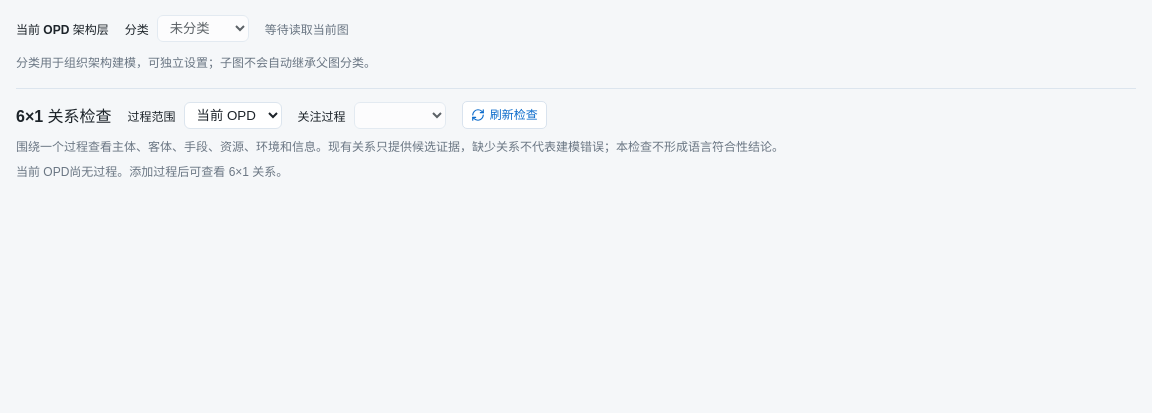
Scenario: 架构方法面板 › 失败重试和空态，方法查询不改语言校验状态或阻断数
The width and height of the screenshot is (1152, 413).
Click the button with test id "p03-method-refresh": x=504, y=115 [462, 101, 547, 129]
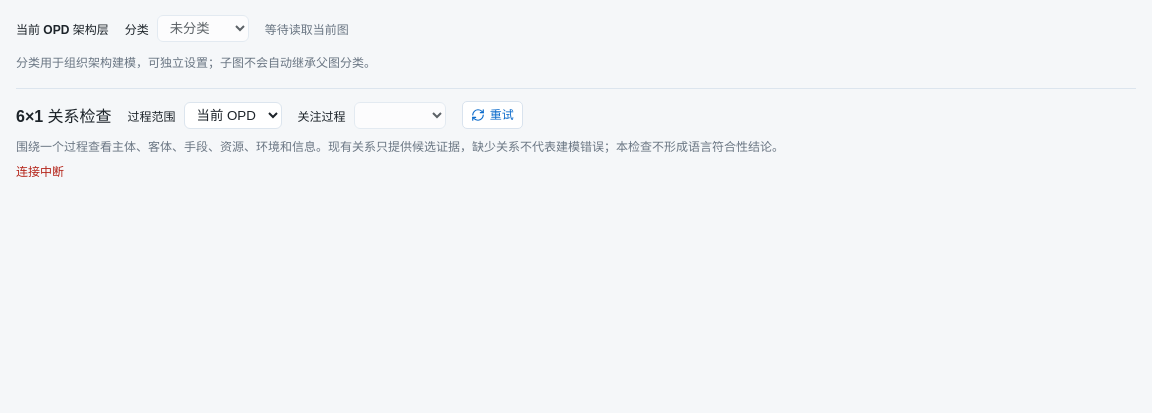
Check: the message "连接中断" is shown, box [16, 165, 64, 179]
Click the button with test id "p03-method-refresh": x=492, y=115 [462, 101, 523, 129]
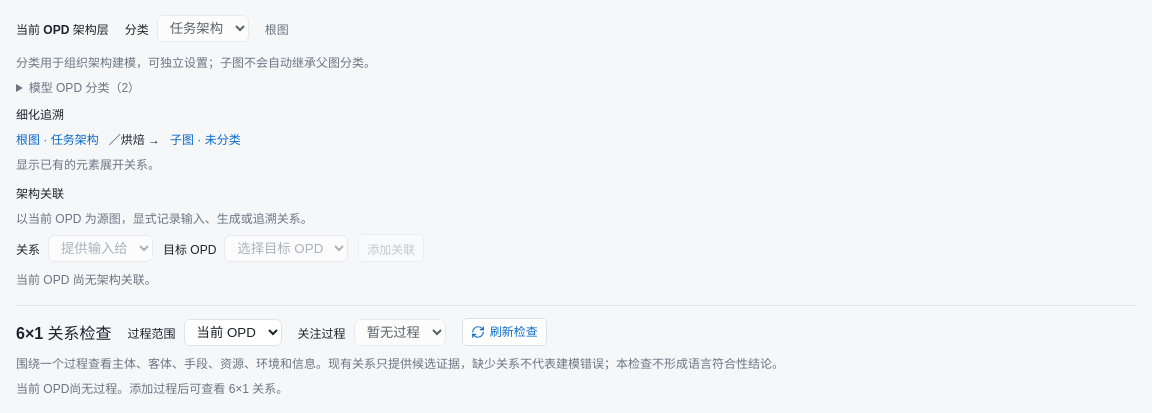
Check: the text with test id "p03-method-empty" shows "尚无过程", box [16, 382, 288, 396]
